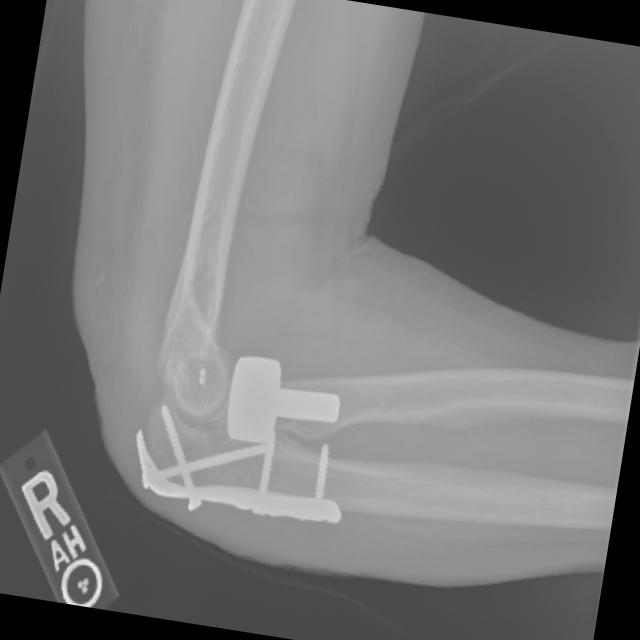elbow positive: (177, 420, 257, 492)
